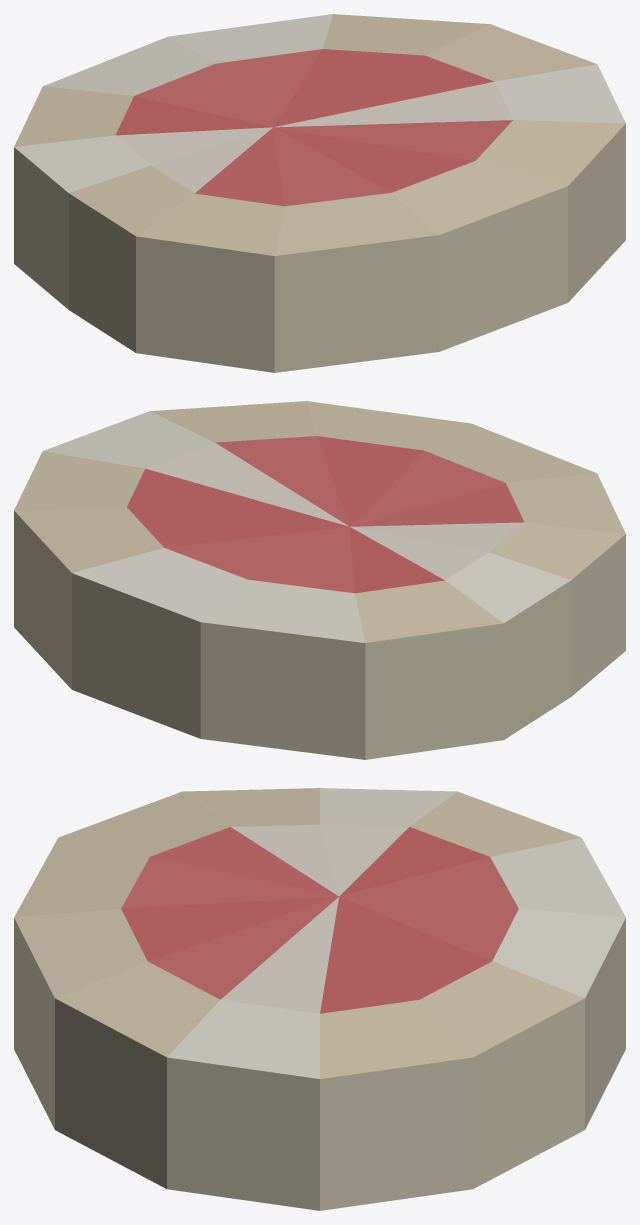
File: Ribeye.glb
3 renders of one model, top to bottom at view 1: azimuth 30°, elevation 25°; view 2: azimuth 150°, elevation 25°; view 3: azimuth 270°, elevation 25°, orthographic. The views are drawn at different scales.
Parts seen in each view (by area): view 1: Ribeye; view 2: Ribeye; view 3: Ribeye.
Part boxes in pixels (left/top/right/bottom): Ribeye: left=14, top=14, right=625, bottom=372; Ribeye: left=14, top=401, right=625, bottom=759; Ribeye: left=14, top=788, right=625, bottom=1210.
Size of the model in its own units: 0.36 by 0.086 by 0.3199.
